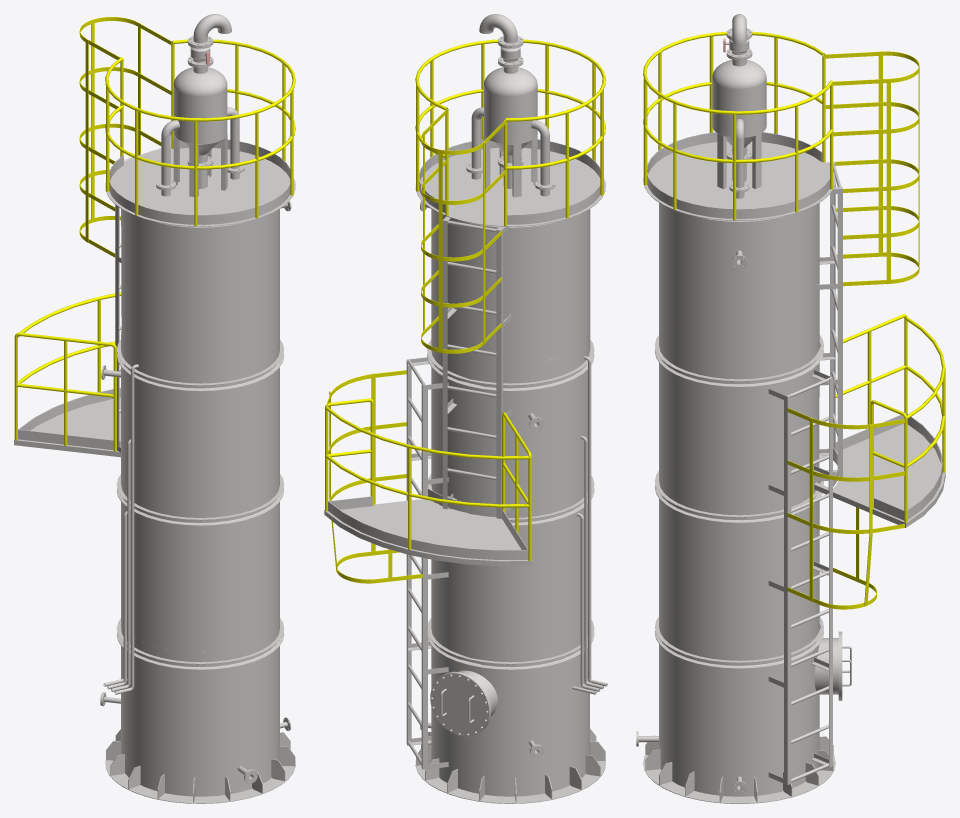
File: after.glb
3 views of the same model, side by side, from view 1: azimuth 30°, elevation 25°; view 2: azimuth 150°, elevation 25°; view 3: azimuth 270°, elevation 25° (orthographic).
Visible parts, largest first — view 1: 5mm筒体-2, 5mm筒体-1, 6mm筒体-2, 6mm筒体-1, 顶部护栏-1, 爬梯下-1, 顶盖-1, 水封罐-1, 护笼-1, 取样管-1, 底板-1, 槽钢加强圈-3 (+4 smaller); view 2: 爬梯下-1, 5mm筒体-2, 5mm筒体-1, 6mm筒体-1, 6mm筒体-2, 顶部护栏-1, 顶盖-1, 水封罐-1, 爬梯上-1, 护笼-1, 人孔-1, 取样管-1 (+5 smaller); view 3: 爬梯下-1, 5mm筒体-2, 5mm筒体-1, 6mm筒体-2, 6mm筒体-1, 顶部护栏-1, 顶盖-1, 护笼-1, 水封罐-1, 爬梯上-1, 槽钢加强圈-3, 底板-1 (+4 smaller).
Part boxes in pixels (x1,y1,x2,y2): 5mm筒体-2: [121, 209, 279, 364]; 5mm筒体-1: [121, 328, 279, 508]; 6mm筒体-2: [121, 476, 279, 652]; 6mm筒体-1: [121, 620, 279, 796]; 顶部护栏-1: [105, 39, 295, 226]; 爬梯下-1: [14, 292, 121, 457]; 顶盖-1: [105, 148, 295, 226]; 水封罐-1: [156, 67, 244, 196]; 护笼-1: [79, 17, 173, 257]; 取样管-1: [103, 364, 138, 694]; 底板-1: [105, 752, 295, 803]; 槽钢加强圈-3: [117, 339, 284, 391]; 爬梯下-1: [324, 357, 532, 769]; 5mm筒体-2: [431, 209, 590, 364]; 5mm筒体-1: [431, 331, 590, 508]; 6mm筒体-1: [431, 620, 589, 796]; 6mm筒体-2: [431, 476, 587, 652]; 顶部护栏-1: [415, 39, 605, 226]; 顶盖-1: [415, 148, 605, 226]; 水封罐-1: [466, 67, 555, 197]; 爬梯上-1: [442, 216, 511, 518]; 护笼-1: [421, 109, 505, 353]; 人孔-1: [430, 670, 497, 736]; 取样管-1: [572, 356, 607, 694]; 爬梯下-1: [768, 314, 945, 784]; 5mm筒体-2: [659, 203, 819, 359]; 5mm筒体-1: [659, 326, 819, 505]; 6mm筒体-2: [659, 472, 819, 650]; 6mm筒体-1: [659, 618, 819, 796]; 顶部护栏-1: [643, 31, 833, 220]; 顶盖-1: [643, 141, 835, 220]; 护笼-1: [824, 51, 919, 286]; 水封罐-1: [712, 59, 766, 191]; 爬梯上-1: [816, 162, 842, 481]; 槽钢加强圈-3: [655, 335, 823, 387]; 底板-1: [643, 754, 835, 803].
Size of the model in its own units: 2.42 by 7.76 by 2.89.
